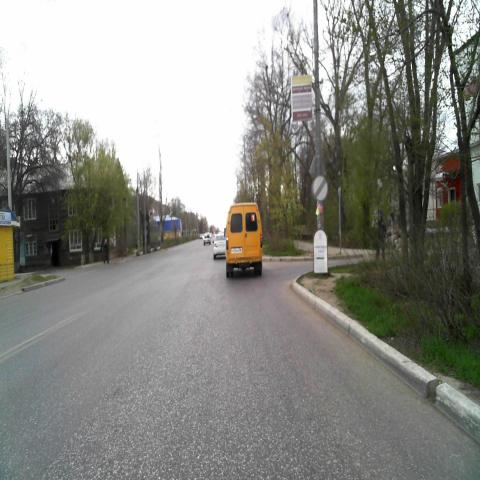3_31: (312, 174, 328, 202)
